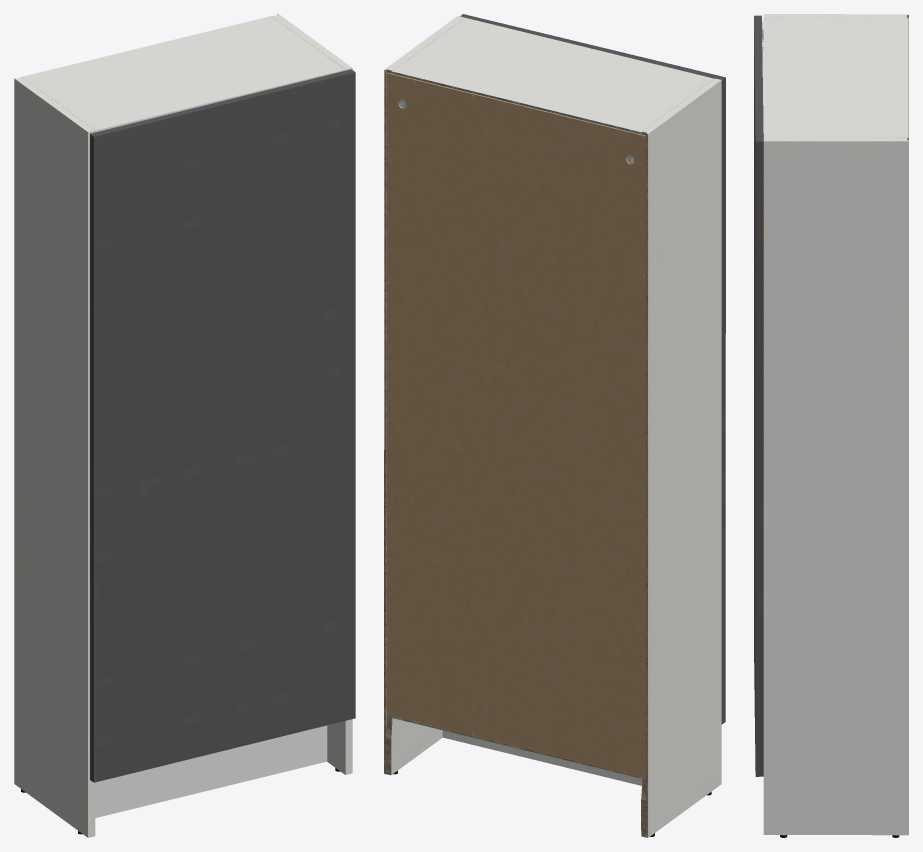
File: knoxhult-armario-alto-con-puerta-gris-oscuro.glb
3 views of the same model, side by side, from view 1: azimuth 30°, elevation 25°; view 2: azimuth 150°, elevation 25°; view 3: azimuth 270°, elevation 25° (orthographic).
Parts seen in each view (by area): view 1: ASY_ART_50604352_S01_NV01; view 2: ASY_ART_50604352_S01_NV01; view 3: ASY_ART_50604352_S01_NV01.
Part boxes in pixels (x1,y1,x2,y2): ASY_ART_50604352_S01_NV01: (14, 14, 355, 837); ASY_ART_50604352_S01_NV01: (384, 14, 725, 837); ASY_ART_50604352_S01_NV01: (754, 14, 908, 837).
Size of the model in its own units: 0.6 by 1.54 by 0.3096.
2 materials, 1 textured.
